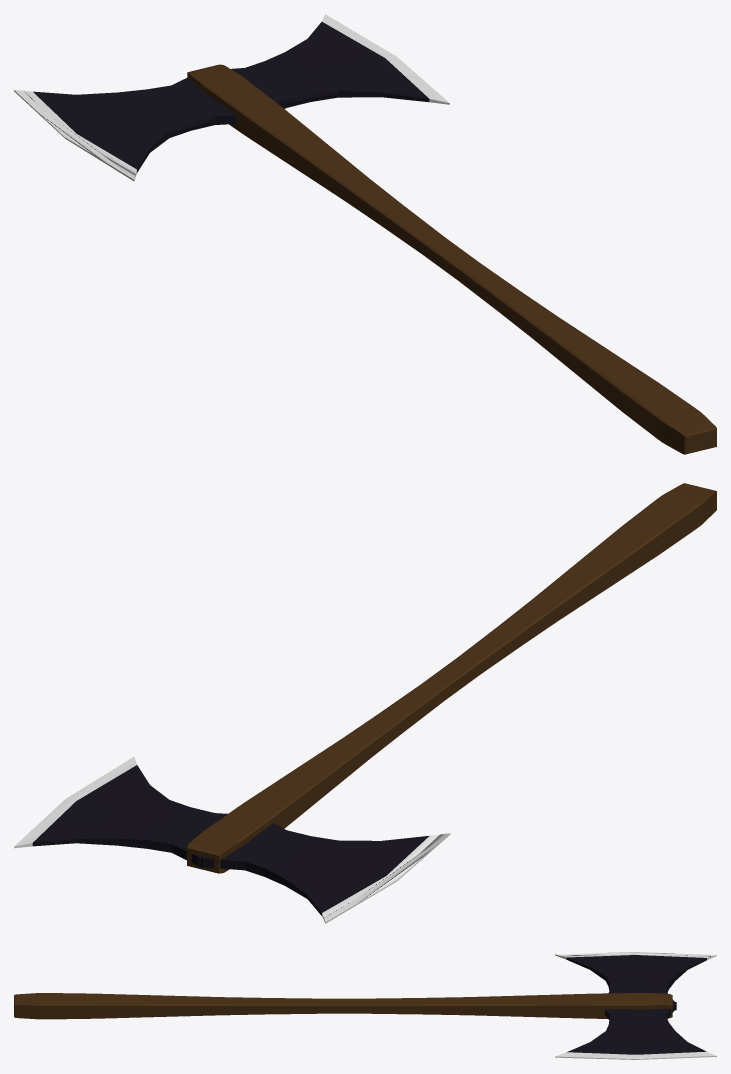
File: hacha.glb
3 views of the same model, one above another, from view 1: azimuth 30°, elevation 25°; view 2: azimuth 150°, elevation 25°; view 3: azimuth 270°, elevation 25° (orthographic). The views are drawn at different scales.
Visible parts, largest first — view 1: Hacha; view 2: Hacha; view 3: Hacha.
Part boxes in pixels (<box>): Hacha: <box>14,14,716,454</box>; Hacha: <box>14,483,716,923</box>; Hacha: <box>14,952,716,1059</box>.
Bounding box in the file's own units: 7.69 × 0.5005 × 21.34.
